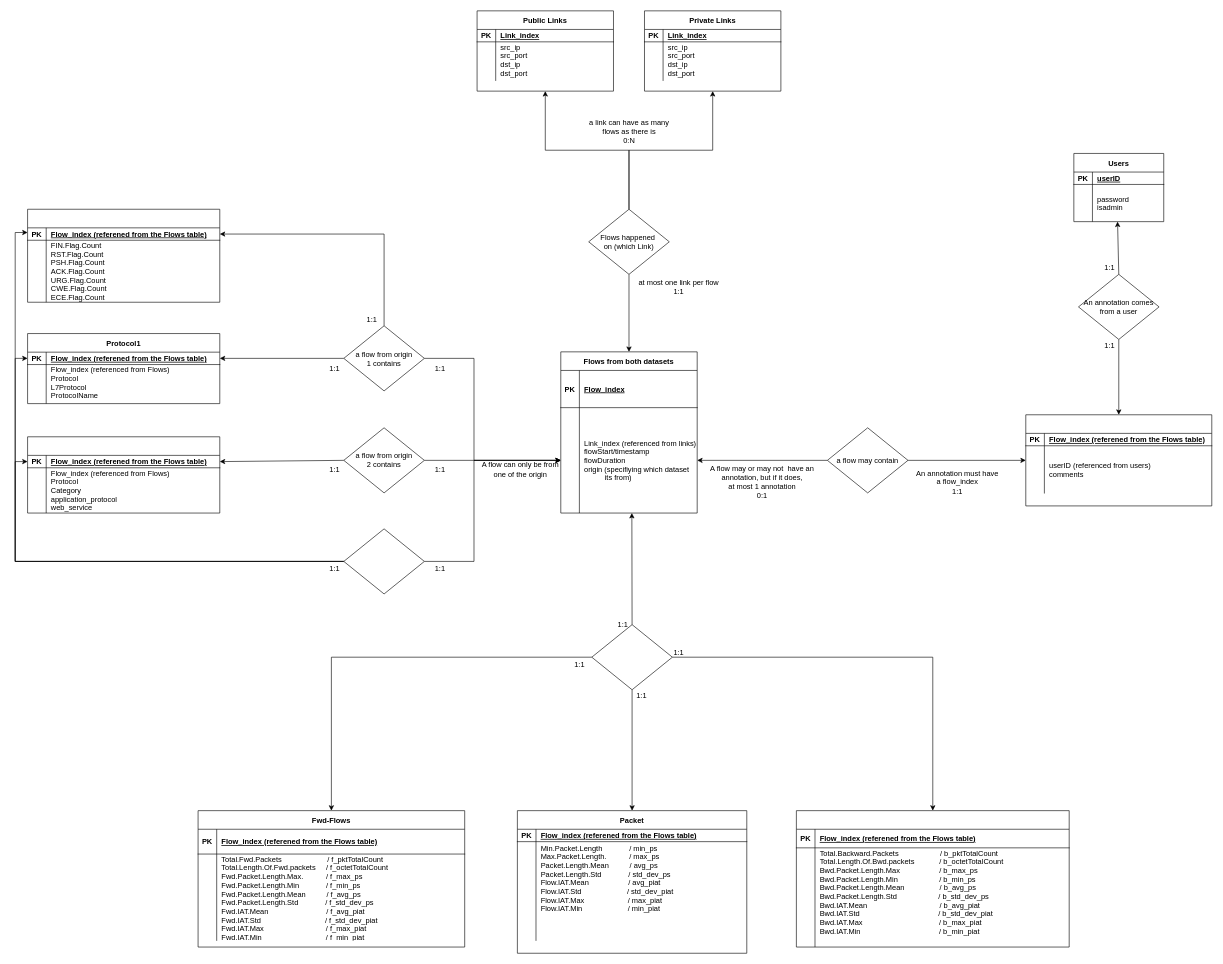
Image size: 1223x964. Some labels were removed from this diagram. The shapes that lost their labels are listed below. From the top down, each one's box as (x1, y1, x2, y2) in pixels, then its label:
(27, 209, 220, 302): Flags
(27, 436, 220, 513): Protocol2
(1025, 414, 1212, 506): Annotations
(343, 528, 424, 594): a flow from origin 3 contains (user input)
(591, 624, 672, 690): a flow contains
(796, 810, 1069, 947): Bwd-Flows
